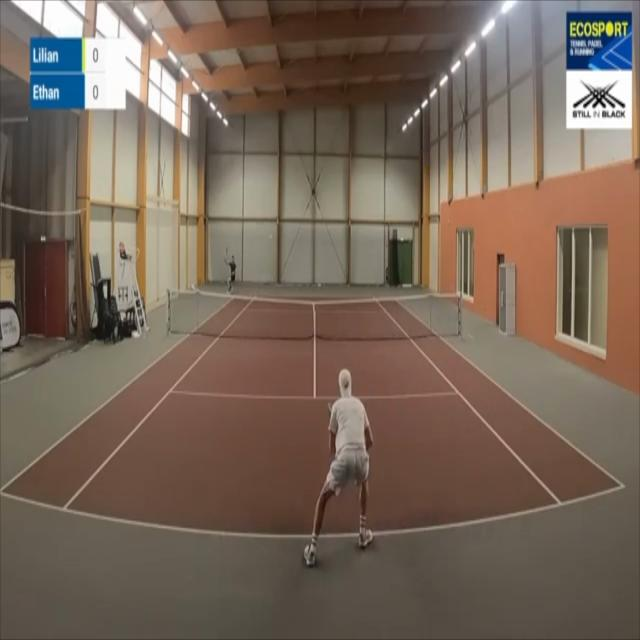ball: (269, 233, 272, 240)
